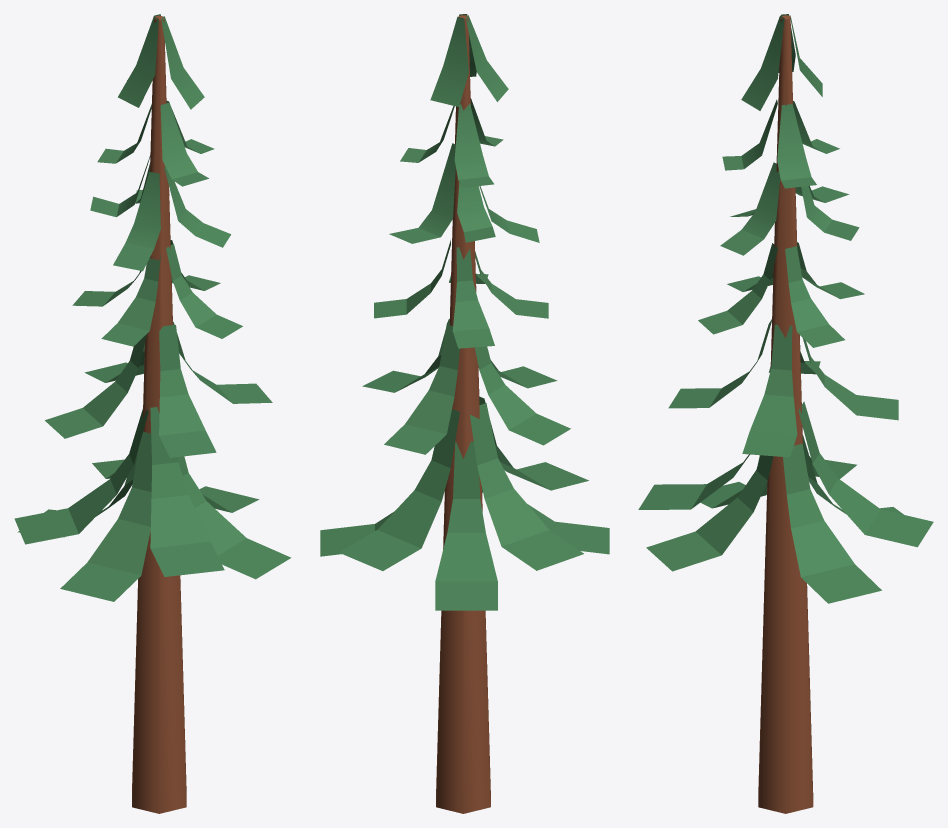
File: cozy_lake_tree_pine_01.glb
The picture shows the model from 3 angles, left to right: view 1: azimuth 30°, elevation 25°; view 2: azimuth 150°, elevation 25°; view 3: azimuth 270°, elevation 25°; orthographic projection.
Visible parts, largest first — view 1: Tree_Pine_01; view 2: Tree_Pine_01; view 3: Tree_Pine_01.
Boxes of the visible parts, x1,y1,x2,y2 form: Tree_Pine_01: (14, 14, 291, 813); Tree_Pine_01: (320, 14, 609, 813); Tree_Pine_01: (638, 14, 933, 813).
Size of the model in its own units: 40.86 by 123 by 41.97.
